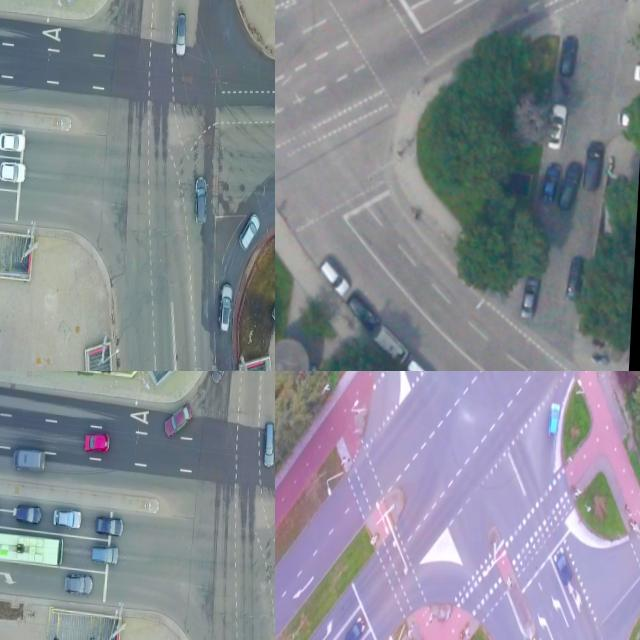UAI: (342, 289, 382, 335), (372, 325, 411, 368), (556, 159, 583, 212), (317, 259, 351, 298), (582, 138, 606, 192), (565, 254, 588, 303), (163, 401, 193, 438), (547, 102, 568, 152), (11, 446, 47, 473), (519, 273, 540, 319), (552, 546, 575, 588), (238, 213, 261, 253), (218, 281, 235, 333), (558, 34, 578, 77), (193, 176, 209, 225), (541, 165, 561, 204), (52, 506, 83, 531), (402, 353, 441, 371), (95, 515, 125, 538), (261, 421, 275, 469), (0, 160, 27, 184), (84, 430, 111, 454), (174, 11, 188, 57), (16, 503, 43, 526), (0, 131, 26, 153), (344, 615, 365, 640), (548, 401, 562, 437), (209, 371, 232, 386)
car: (0, 532, 64, 568), (64, 573, 95, 598), (91, 543, 120, 565)
